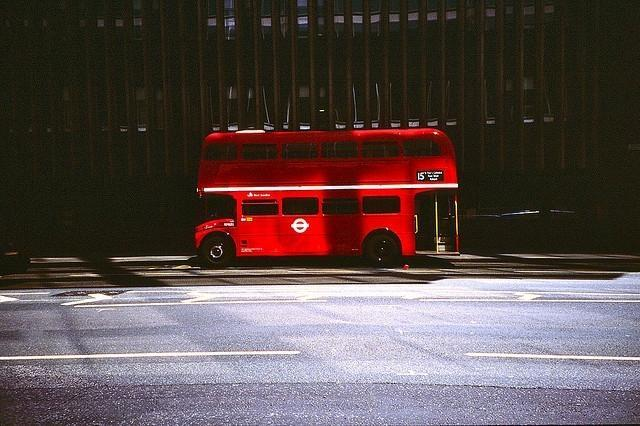bus: (193, 127, 459, 269)
